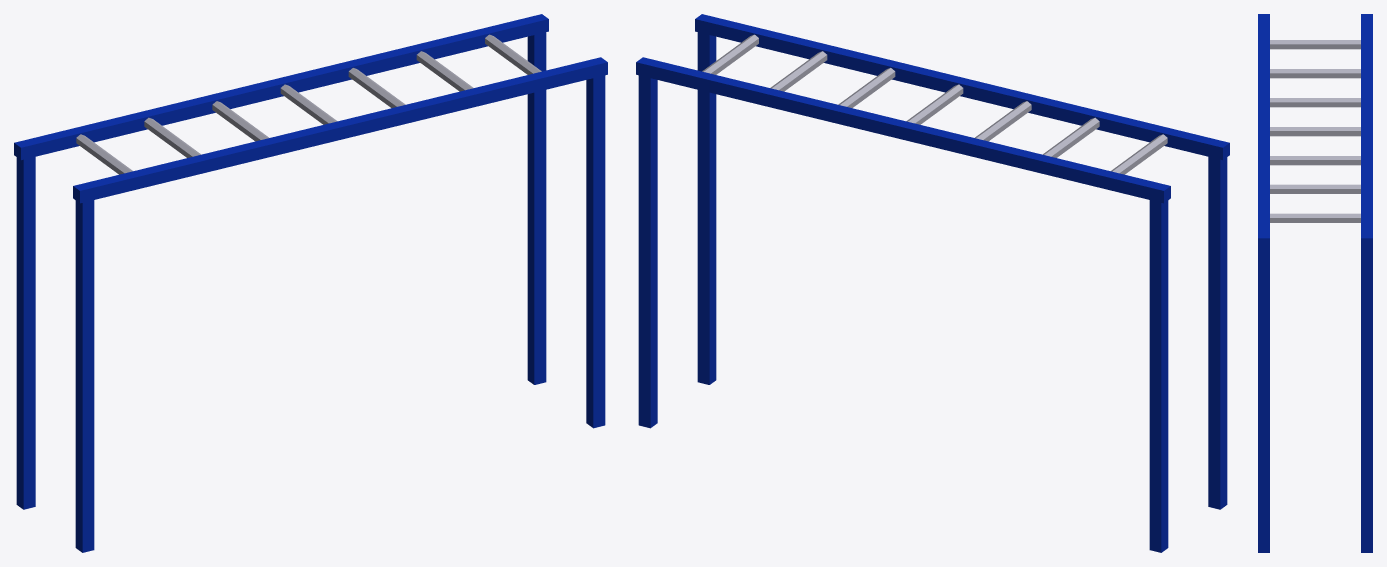
Rendered from monkey_bars.obj.
3 renders of one model, left to right at view 1: azimuth 30°, elevation 25°; view 2: azimuth 150°, elevation 25°; view 3: azimuth 270°, elevation 25°, orthographic. The views are drawn at different scales.
Parts seen in each view (by area): view 1: monkey_bars; view 2: monkey_bars; view 3: monkey_bars.
Boxes of the visible parts, bbox=[...] form: monkey_bars: bbox=[14, 14, 607, 552]; monkey_bars: bbox=[636, 14, 1229, 552]; monkey_bars: bbox=[1258, 14, 1372, 552].
Bounding box in the file's own units: 3.1 × 2.04 × 0.67.
